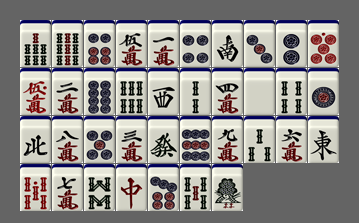0m: (20, 68, 51, 115)
0p: (308, 20, 339, 67)
0s: (20, 164, 51, 211)
1m: (148, 20, 179, 67)
1p: (308, 68, 339, 115)
1s: (212, 164, 243, 211)
1z: (308, 116, 339, 163)
2m: (52, 68, 83, 115)
2p: (276, 20, 307, 67)
2s: (180, 68, 211, 115)
2z: (212, 20, 243, 67)
3m: (116, 116, 147, 163)
3p: (244, 20, 275, 67)
3s: (244, 116, 275, 163)
3z: (148, 68, 179, 115)
4m: (212, 68, 243, 115)
4p: (180, 20, 211, 67)
4s: (276, 68, 307, 115)
4z: (20, 116, 51, 163)
5m: (116, 20, 147, 67)
5p: (84, 116, 115, 163)
5s: (180, 164, 211, 211)
5z: (244, 68, 275, 115)
6m: (276, 116, 307, 163)
6p: (84, 20, 115, 67)
6s: (116, 68, 147, 115)
6z: (148, 116, 179, 163)
7m: (52, 164, 83, 211)
7p: (148, 164, 179, 211)
7s: (20, 20, 51, 67)
7z: (116, 164, 147, 211)
8m: (52, 116, 83, 163)
8p: (84, 68, 115, 115)
8s: (84, 164, 115, 211)
9m: (212, 116, 243, 163)
9p: (180, 116, 211, 163)
9s: (52, 20, 83, 67)
